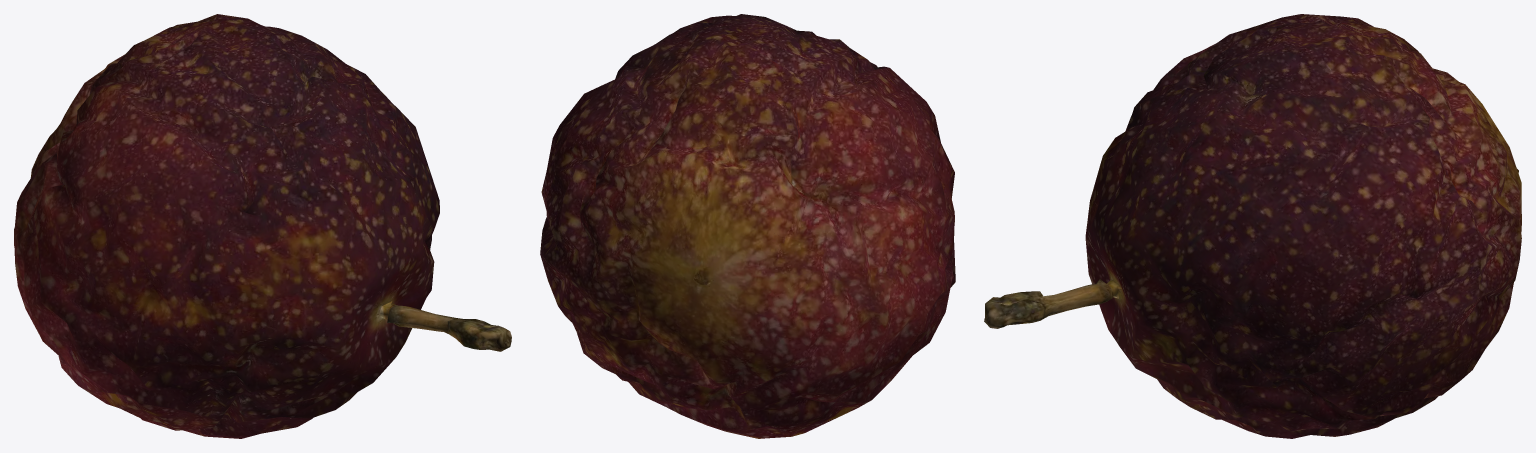
File: 静物_水果_Passion Fruit_opt.glb
3 views of the same model, side by side, from view 1: azimuth 30°, elevation 25°; view 2: azimuth 150°, elevation 25°; view 3: azimuth 270°, elevation 25° (orthographic). The views are drawn at different scales.
Visible parts, largest first — view 1: fr_passionFruit; view 2: fr_passionFruit; view 3: fr_passionFruit.
Part boxes in pixels (bbox=[...]): fr_passionFruit: bbox=[14, 14, 511, 438]; fr_passionFruit: bbox=[540, 14, 955, 438]; fr_passionFruit: bbox=[984, 14, 1521, 438].
Bounding box in the file's own units: 0.0991 × 0.1 × 0.1221.
Materials: 1 (1 with a texture image).
